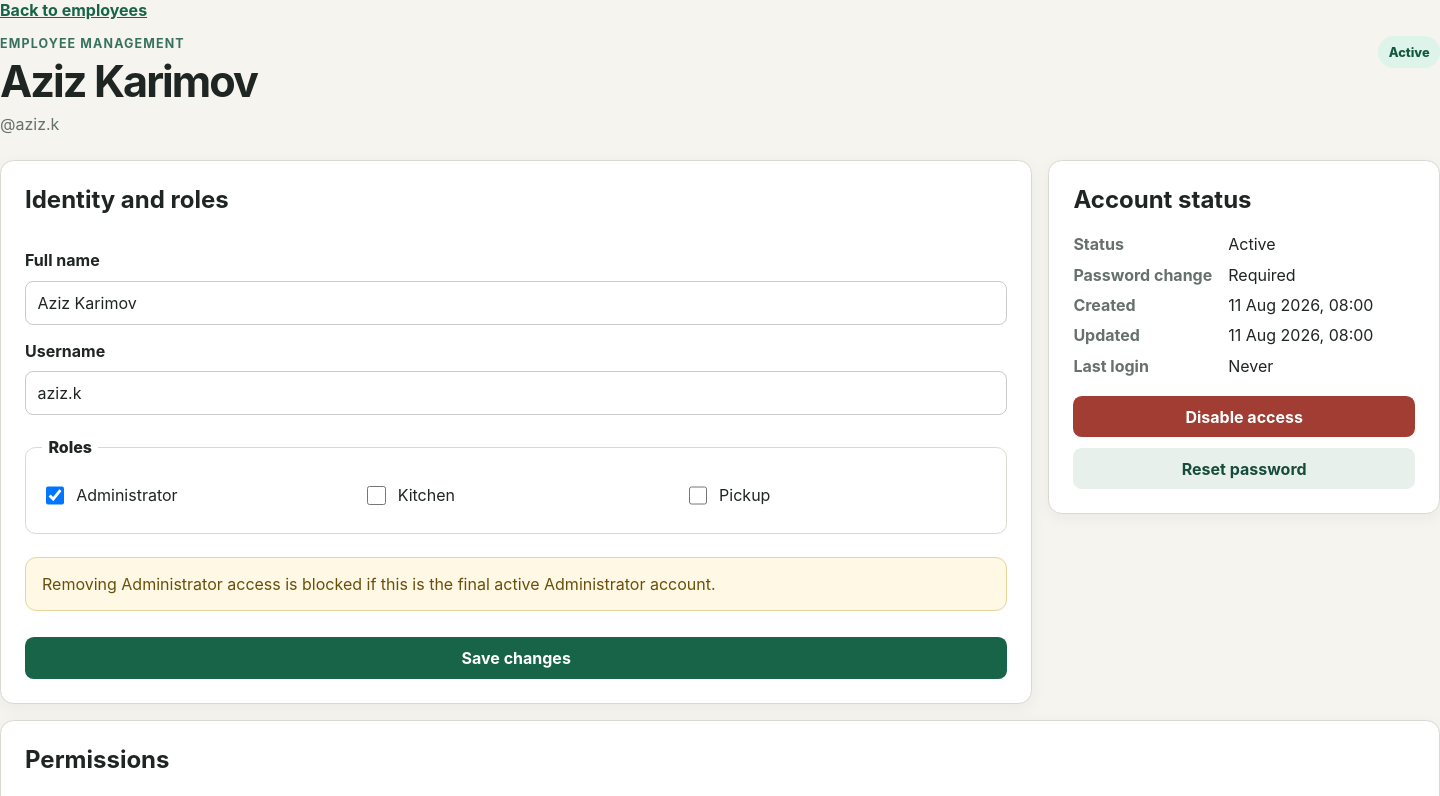
employee management administration › shows the last-administrator business conflict instead of a generic error
Expected: the heading "Aziz Karimov" is shown, [0,59,257,104]
Click the button "Disable access" at (1244, 417), box [1073,396,1415,437]
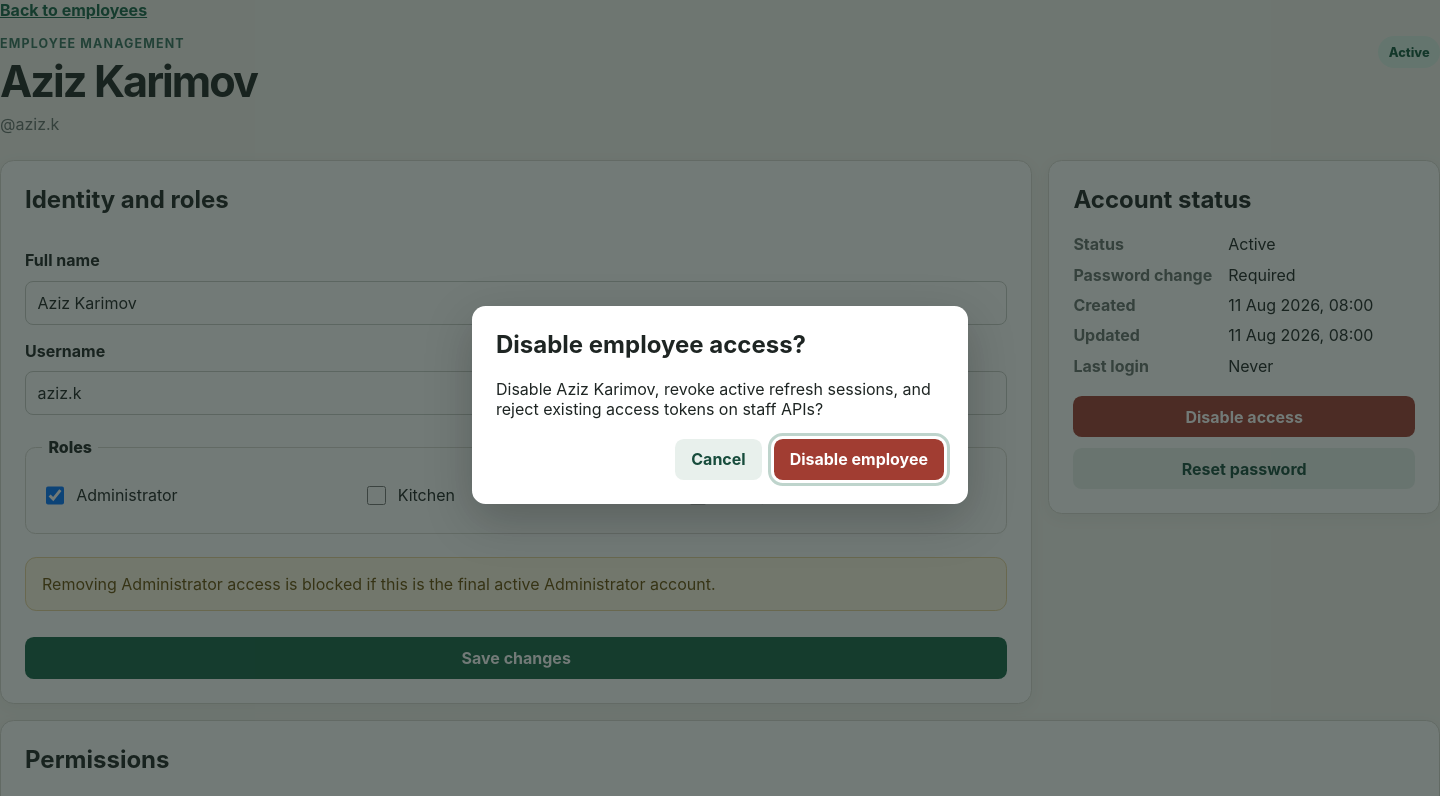
Click the button "Disable employee" at (859, 460), box [774,439,944,480]
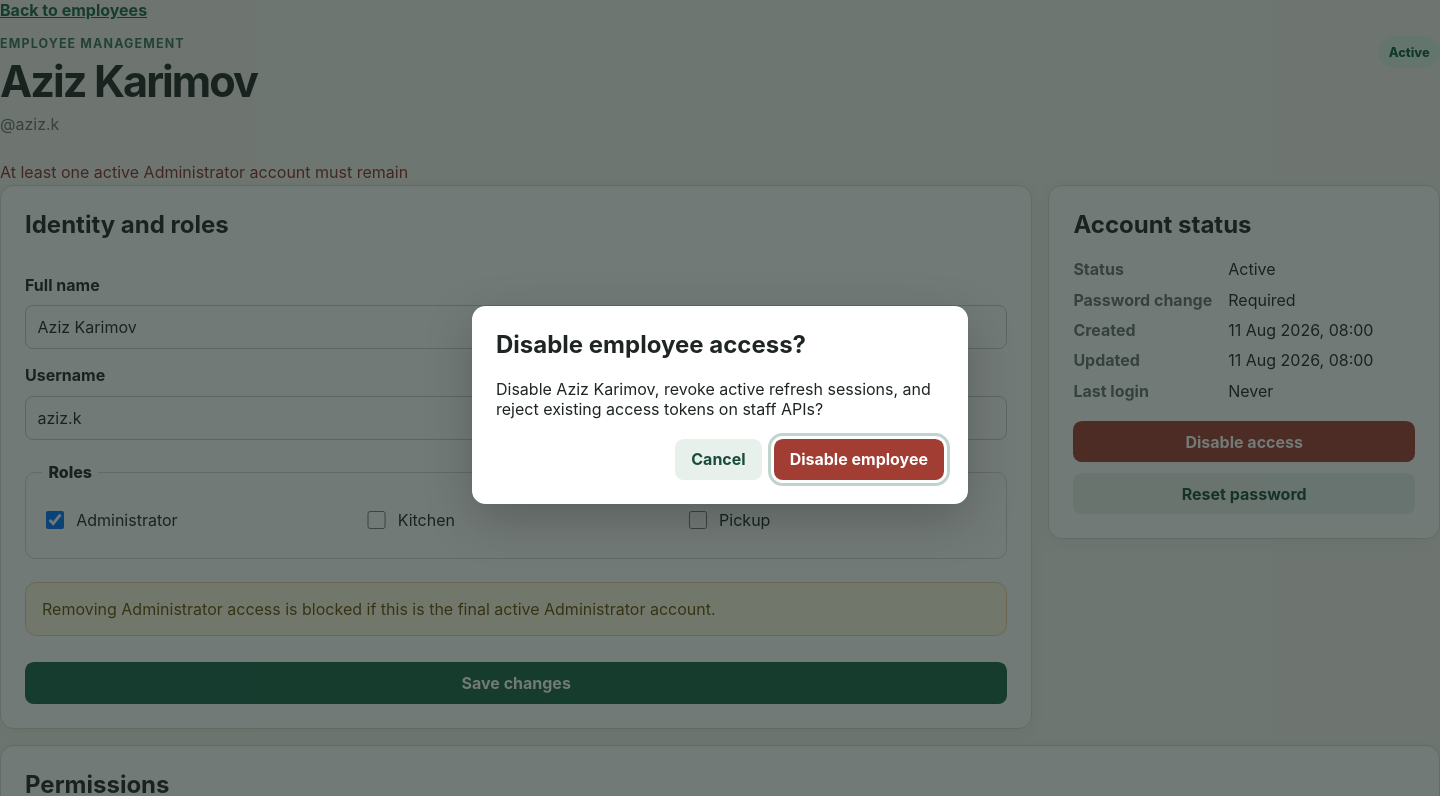
Expected: the text "At least one active Administrator account must remain" is shown, [0,162,408,182]
